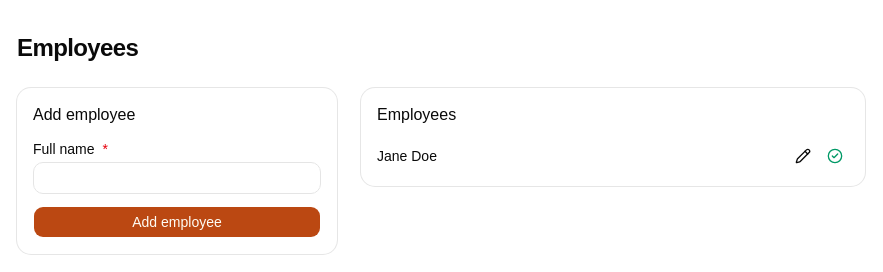
Test case: Employees › shows a fallback error toast when toggling an employee's active state fails with a network error
Expected: the text "Jane Doe" is shown, [377, 146, 437, 166]
Step 1. Click the button named "Deactivate" → (835, 156), box [821, 142, 849, 170]
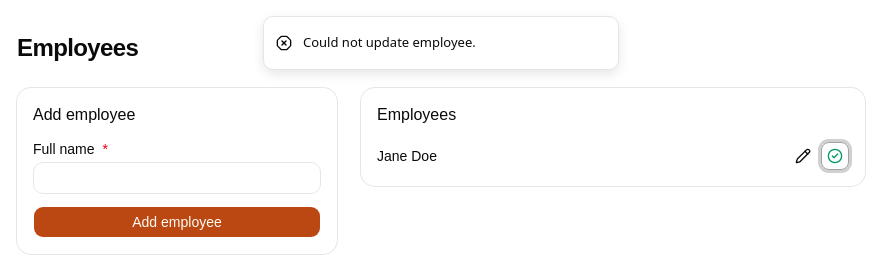
Expected: the text "Could not update employee." is shown, [303, 33, 476, 52]
